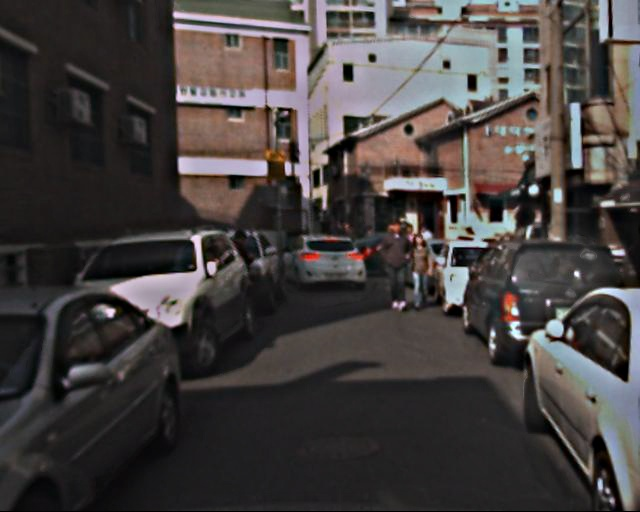person: (379, 221, 417, 313), (402, 232, 436, 314), (227, 230, 260, 310)
